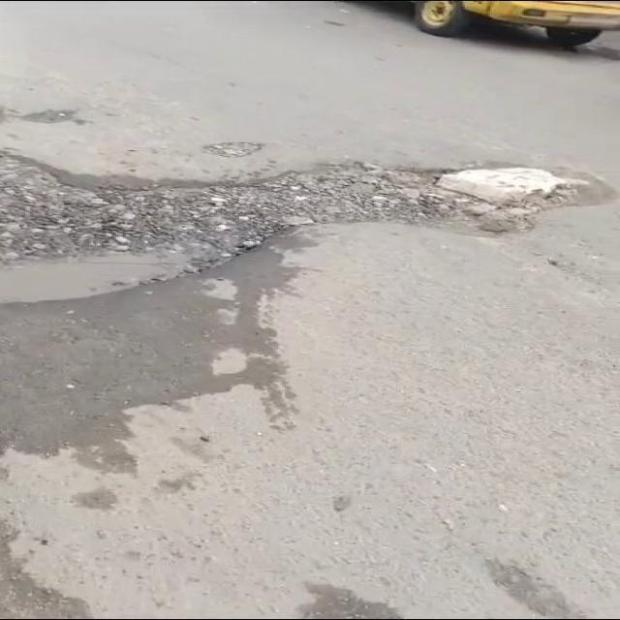lubang: (0, 152, 590, 302), (205, 141, 264, 158)
